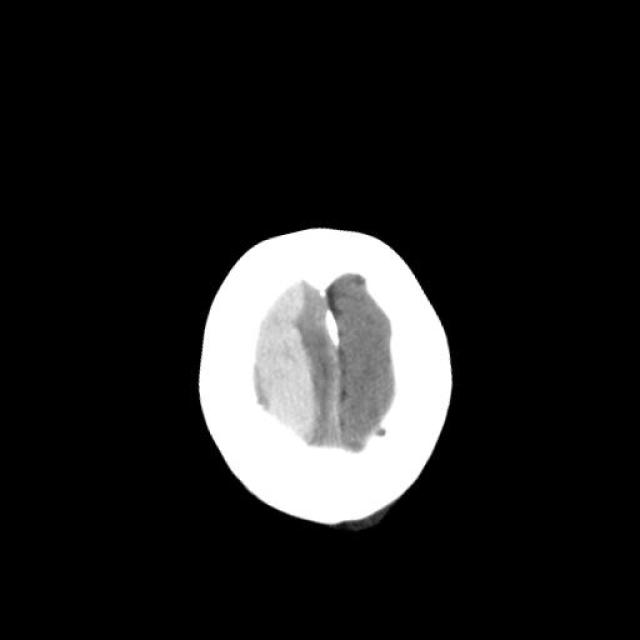Subdural: (222, 277, 341, 462)
